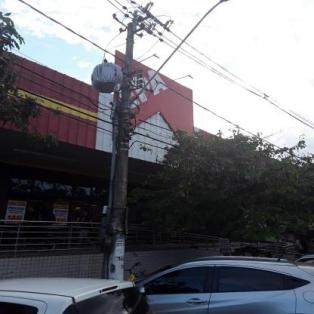Poste: (101, 16, 140, 301)
